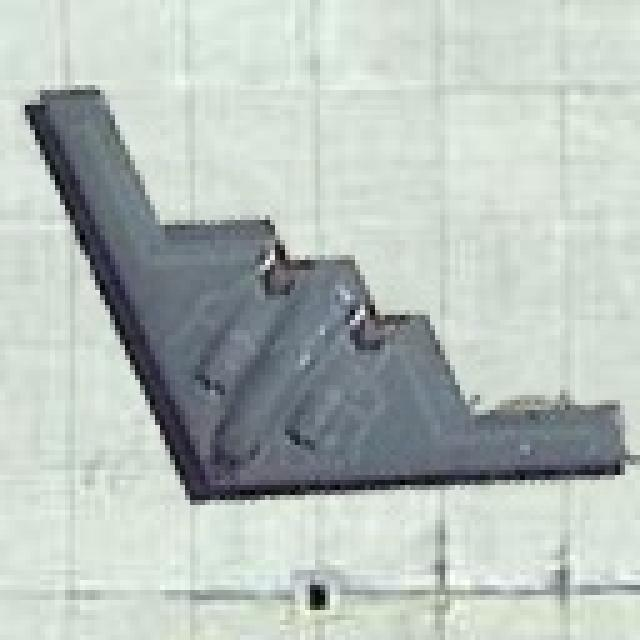B-2_TopDown: (15, 80, 635, 505)
